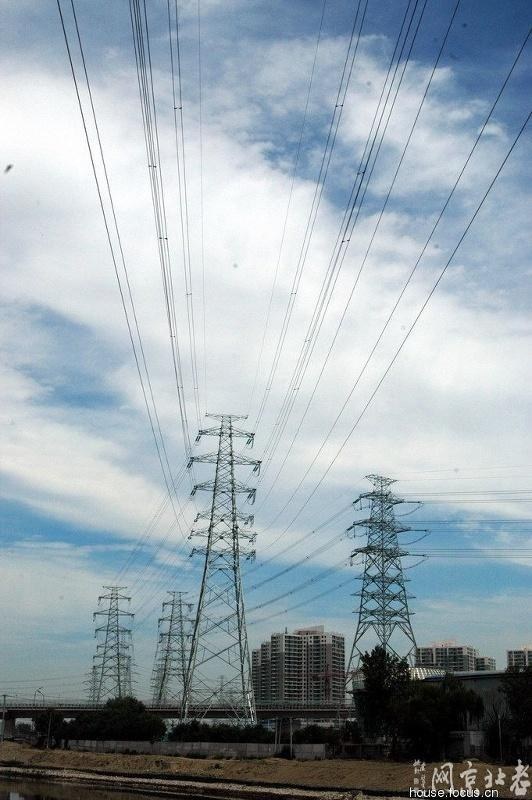power_tower: (180, 406, 262, 730), (336, 474, 432, 714), (92, 581, 136, 711), (154, 590, 194, 713), (84, 664, 107, 708), (122, 650, 134, 700)
